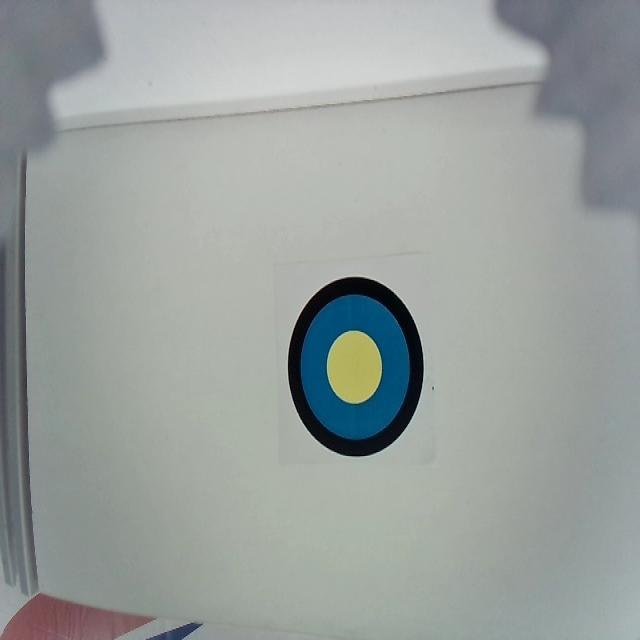cogn: (287, 275, 425, 459)
